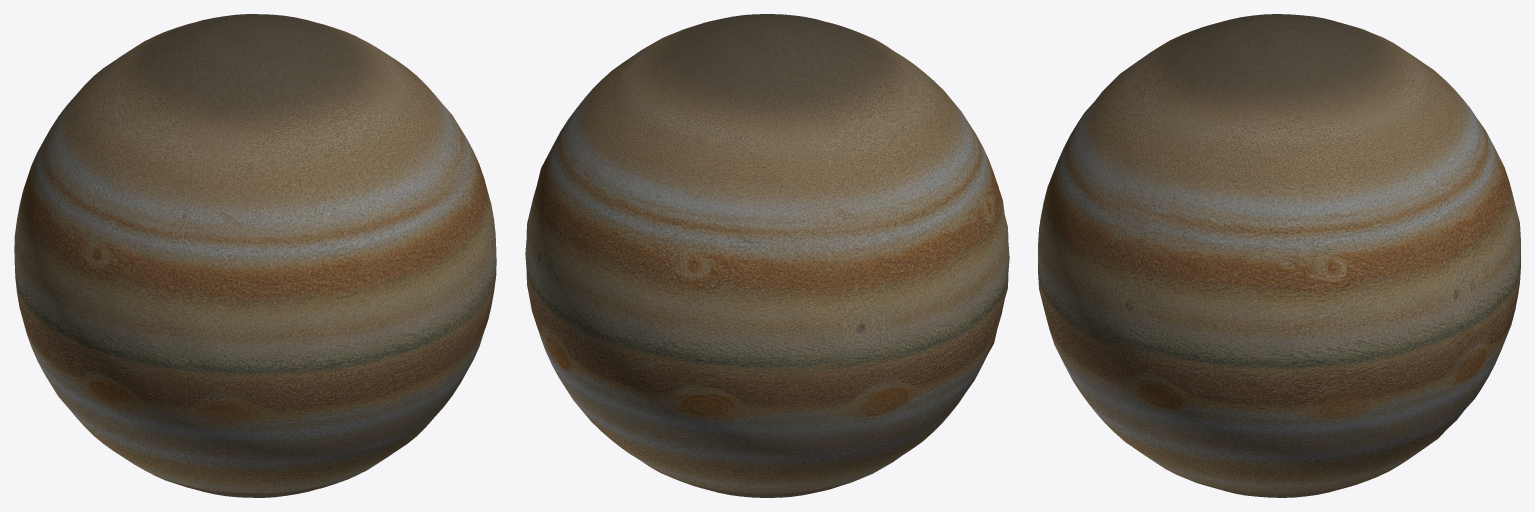
The model's file is tripo_convert_17d02fa5-3a8b-404e-86f0-2a91fdb1d827.fbx.
3 renders of one model, left to right at view 1: azimuth 30°, elevation 25°; view 2: azimuth 150°, elevation 25°; view 3: azimuth 270°, elevation 25°, orthographic.
Parts seen in each view (by area): view 1: tripo_node_17d02fa5; view 2: tripo_node_17d02fa5; view 3: tripo_node_17d02fa5.
Part boxes in pixels (x1,y1,x2,y2): tripo_node_17d02fa5: [14, 14, 496, 497]; tripo_node_17d02fa5: [525, 14, 1009, 497]; tripo_node_17d02fa5: [1038, 14, 1520, 497].
Bounding box in the file's own units: 0.998 × 0.998 × 0.998.
1 material, 1 textured.
